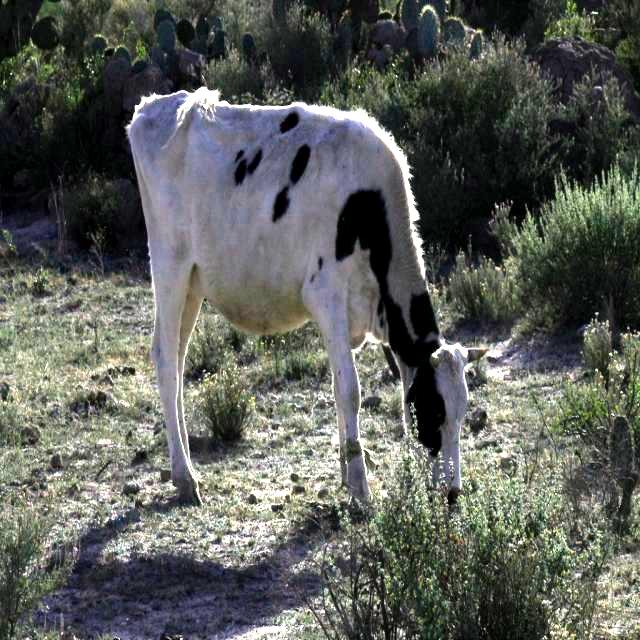COW: (128, 89, 480, 503)
